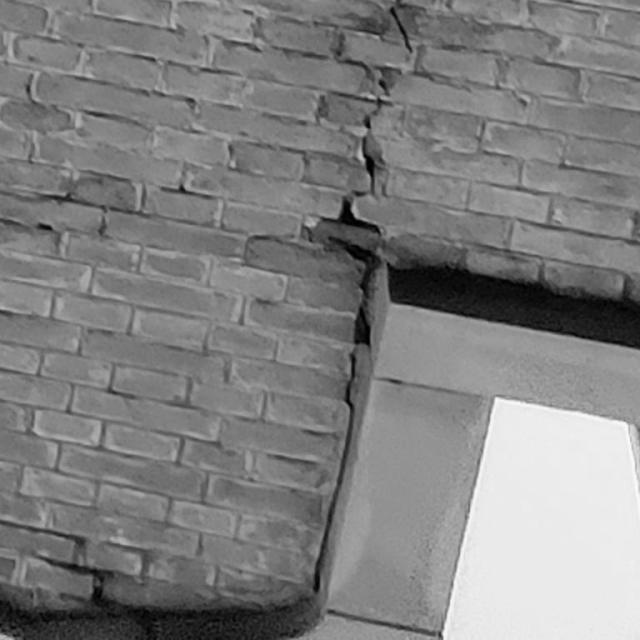crack: (304, 1, 412, 592), (48, 560, 149, 618)
